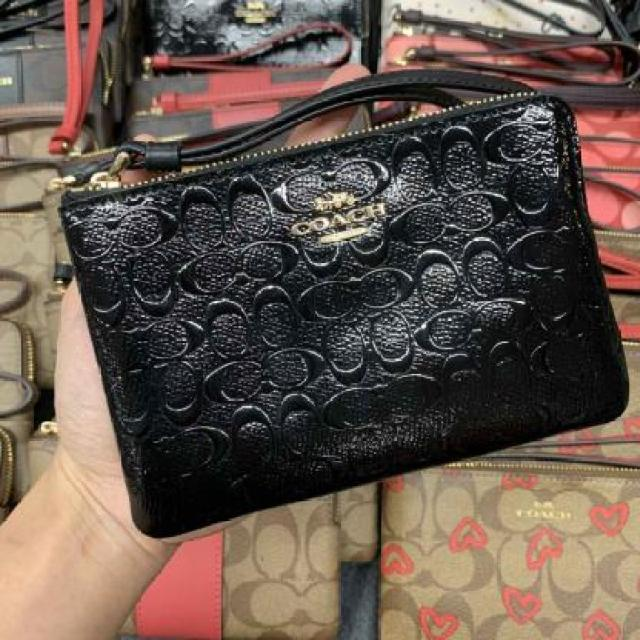Bag: (32, 53, 640, 549)
